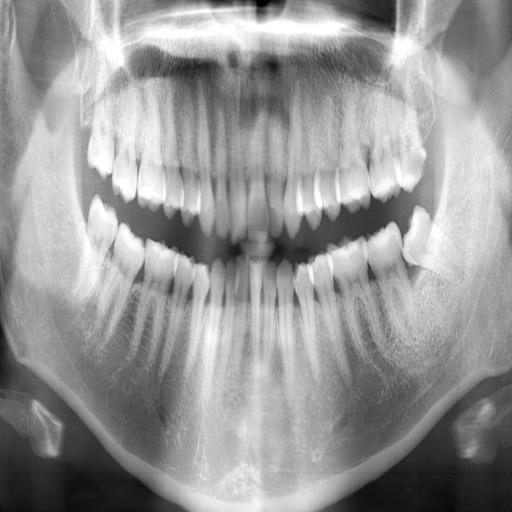Wisdom teeth: (402, 207, 461, 280), (88, 196, 116, 259), (88, 109, 113, 177), (397, 138, 425, 191)
